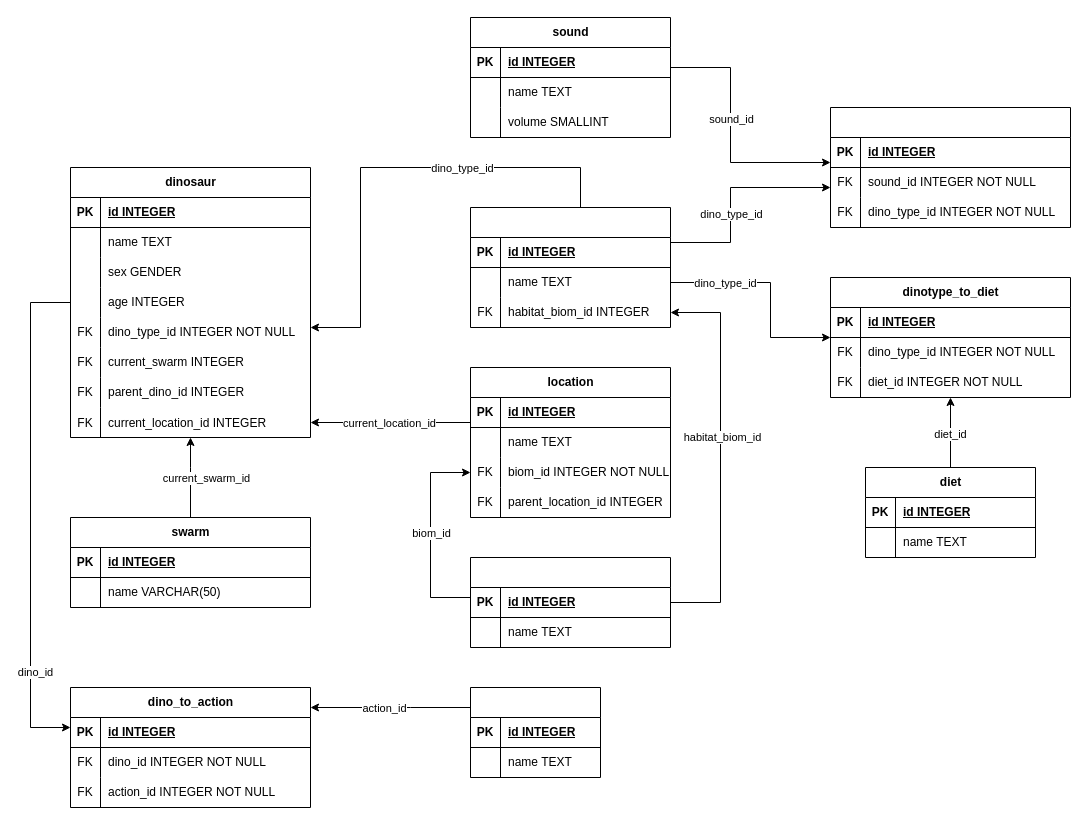
Some shapes in this 1088 by 825 pixel diagram are drawn without their labels. The box of each missing label's shape, as (x1, y1, x2, y2) in pixels:
action: (470, 686, 600, 778)
biom: (470, 556, 670, 648)
dino_type: (470, 206, 670, 328)
dinotype_to_sound: (830, 106, 1070, 228)
